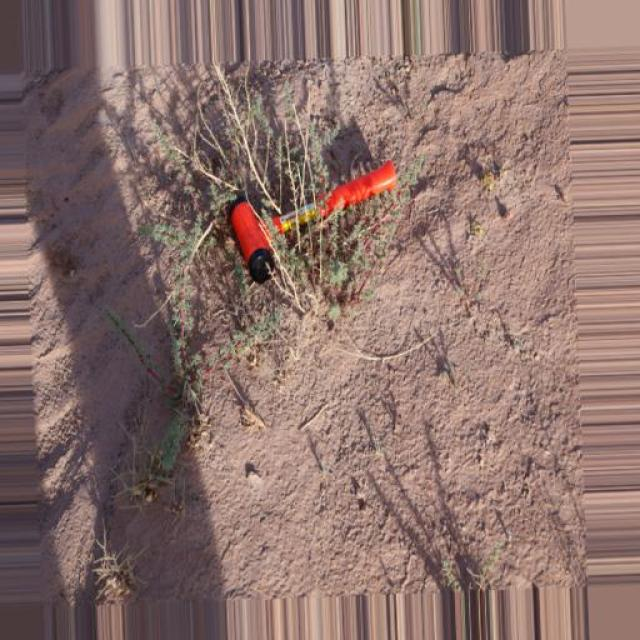mallet: (227, 158, 402, 285)
